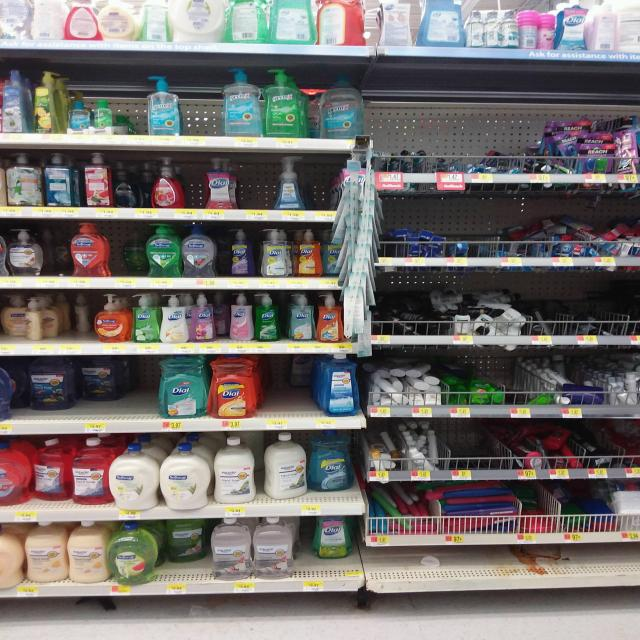void: (184, 62, 220, 146), (306, 150, 348, 221), (264, 357, 295, 431), (238, 152, 268, 223), (117, 70, 144, 146), (294, 355, 319, 431), (44, 222, 70, 290), (132, 356, 154, 434), (525, 284, 549, 346), (552, 282, 574, 344), (471, 424, 495, 480), (498, 424, 522, 478), (370, 548, 398, 593), (612, 544, 640, 587), (404, 549, 431, 591), (623, 281, 640, 346), (604, 282, 620, 349), (558, 544, 582, 587), (487, 548, 510, 591), (449, 425, 466, 481), (586, 544, 608, 587), (461, 547, 482, 590), (436, 551, 455, 591), (514, 548, 533, 588), (538, 546, 556, 586)
